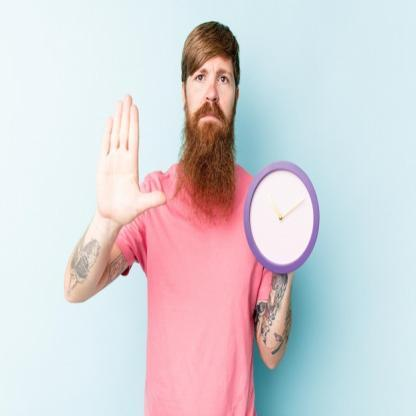stop: (97, 90, 168, 230)
